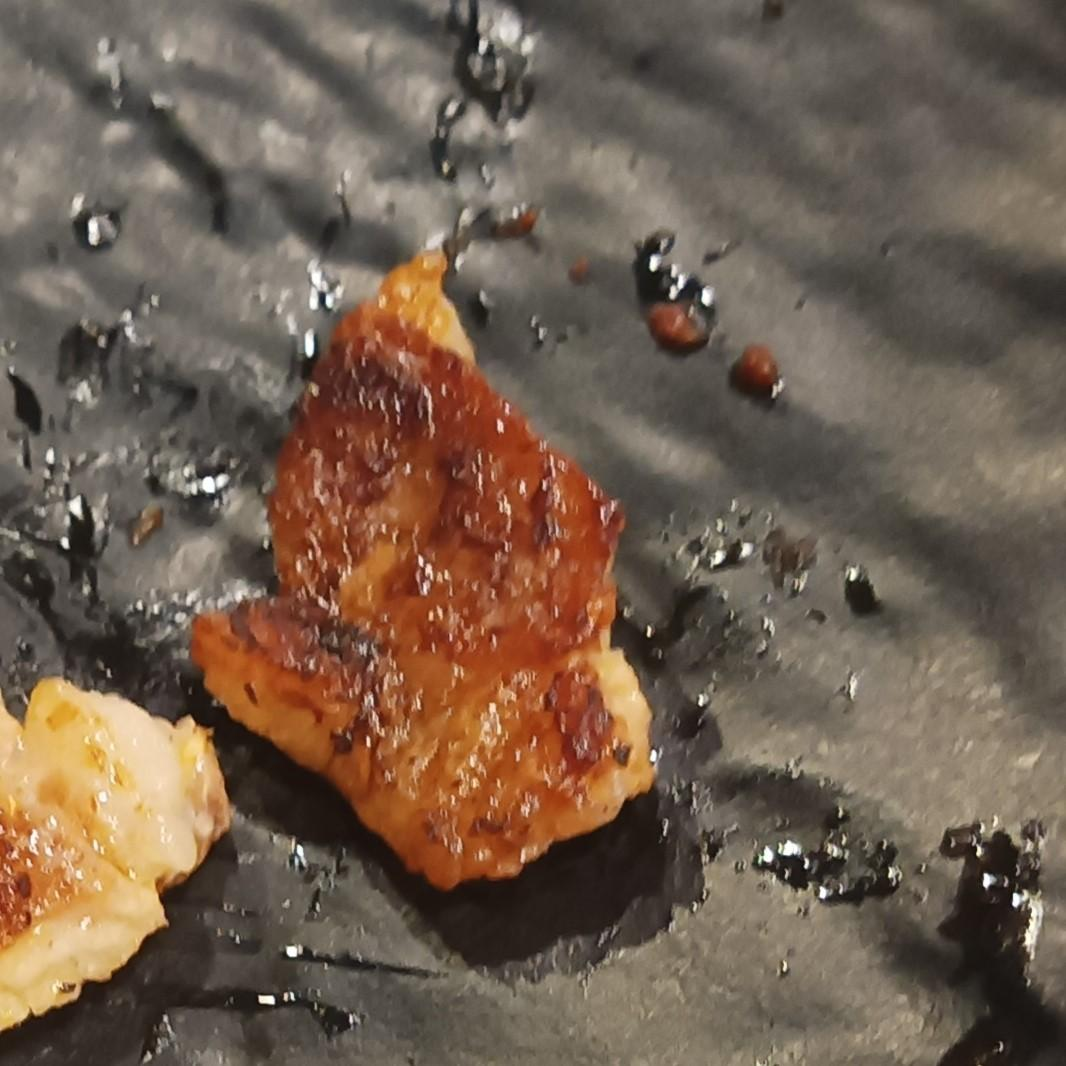Overcooked: (187, 252, 657, 894)
Well-Cooked: (0, 678, 232, 1039)
